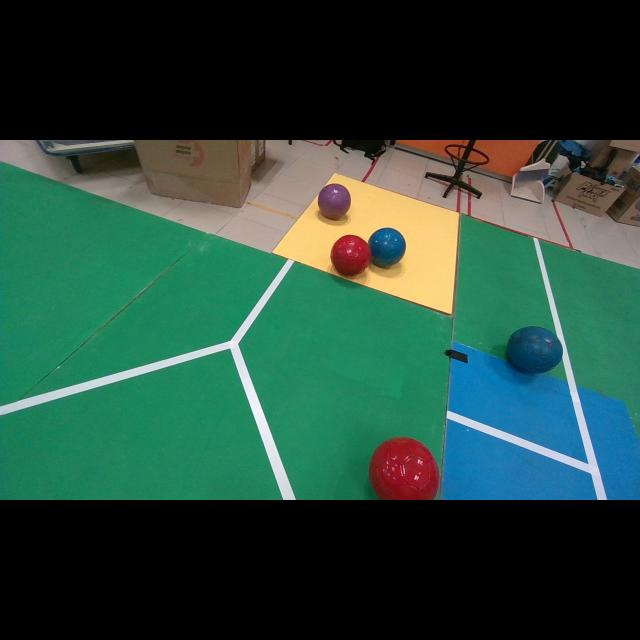B: (508, 326, 562, 373), (369, 228, 406, 268)
P: (318, 184, 351, 220)
R: (369, 438, 440, 499), (330, 235, 371, 276)
